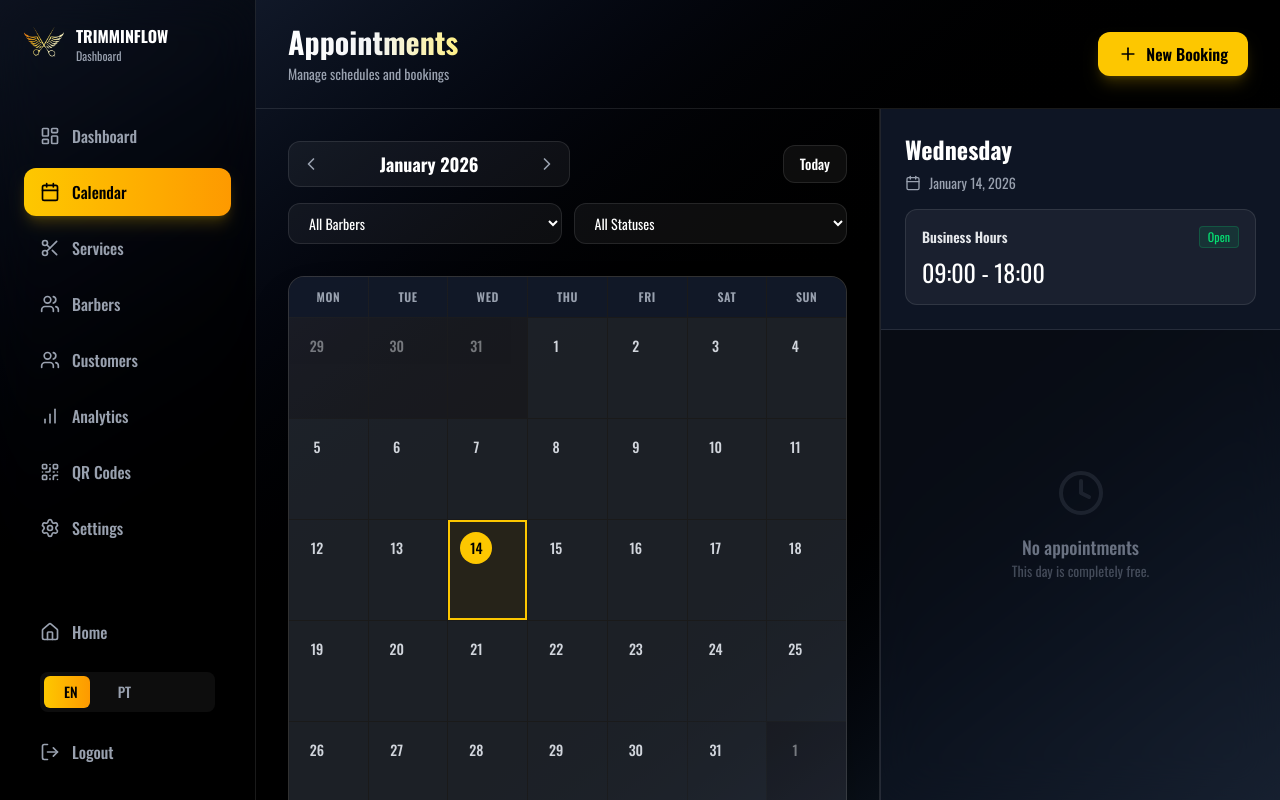
Test: Calendar & Appointments › should show the 'New Booking' button
This screenshot has width=1280, height=800.
Find button by text content and force click to bypass any temporary overlays
Click the button "New Booking": click(1173, 54) [1098, 32, 1248, 76]
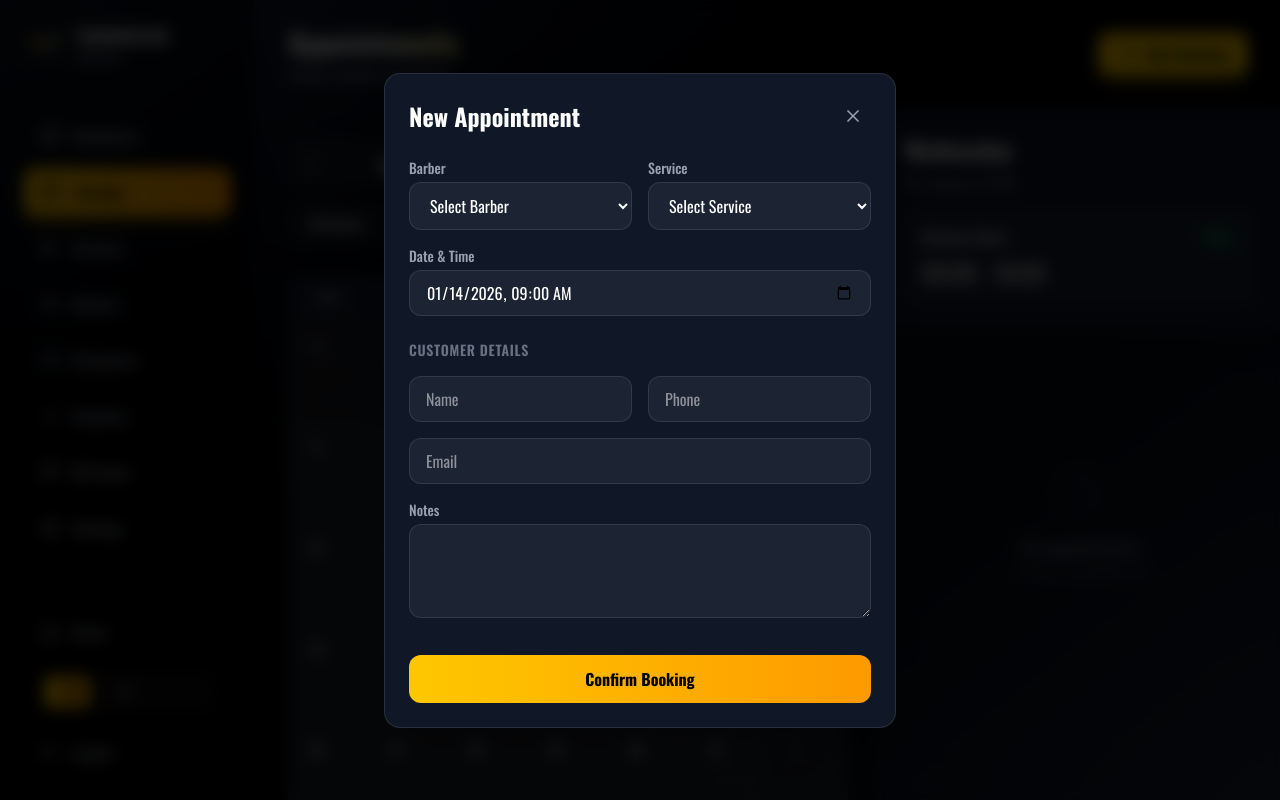
Expected: the heading "New Appointment" is shown, [409, 100, 580, 132]
